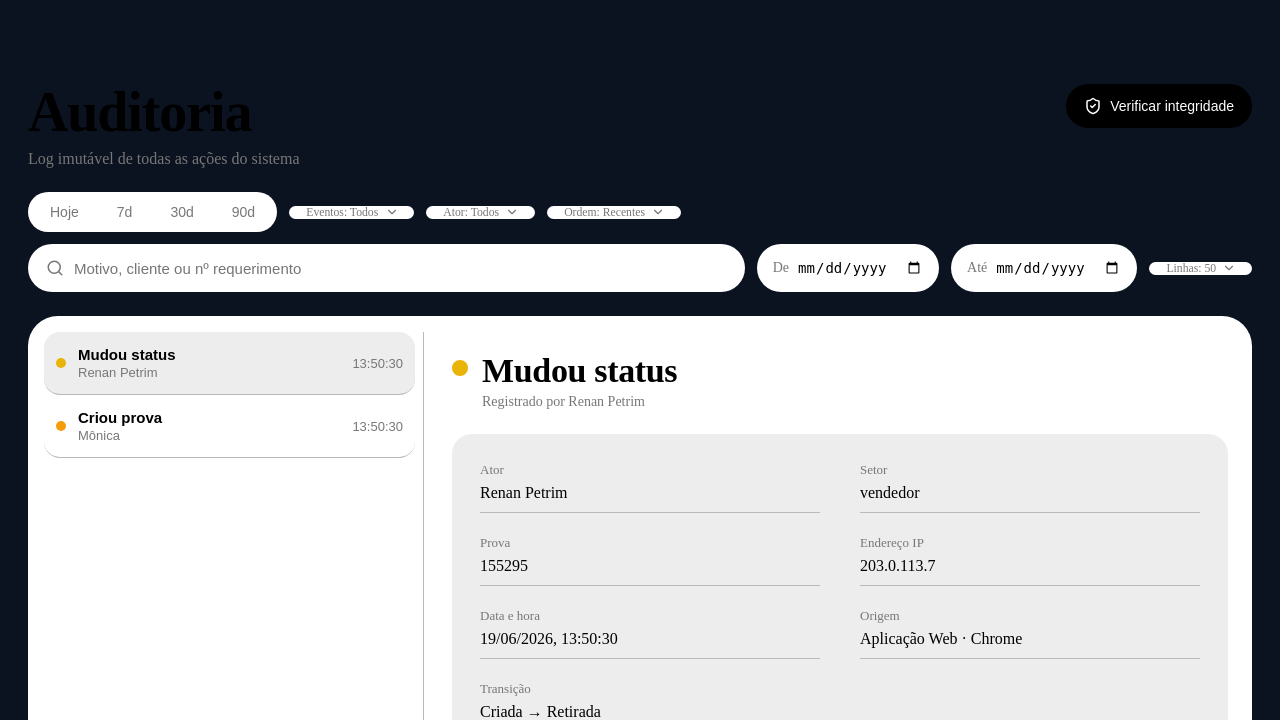
it: AuditoriaView (W6-C20) › selecionar outro evento troca o painel de detalhe
Click the button "Criou prova Mônica 13:50:30" at (120, 418), box [44, 395, 415, 458]
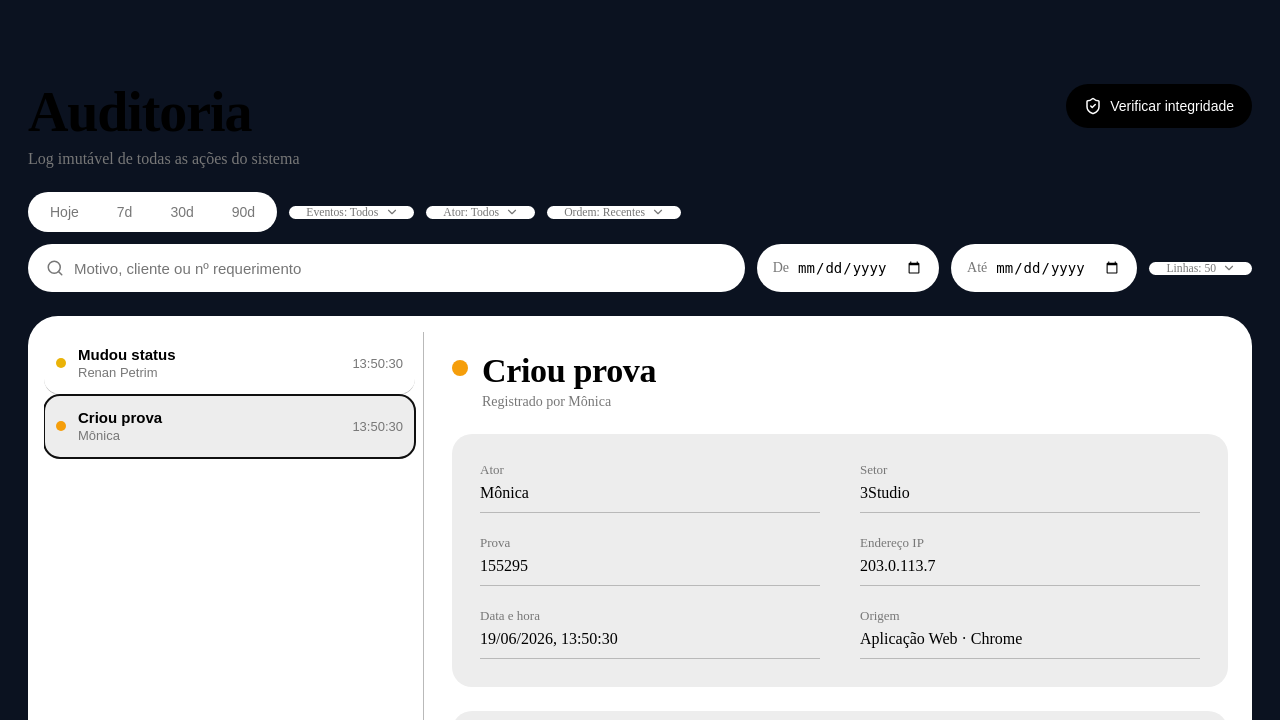
Expected: the heading "Criou prova" is shown, [482, 352, 656, 390]
Expected: the text "Registrado por Mônica" is shown, [482, 394, 611, 409]
